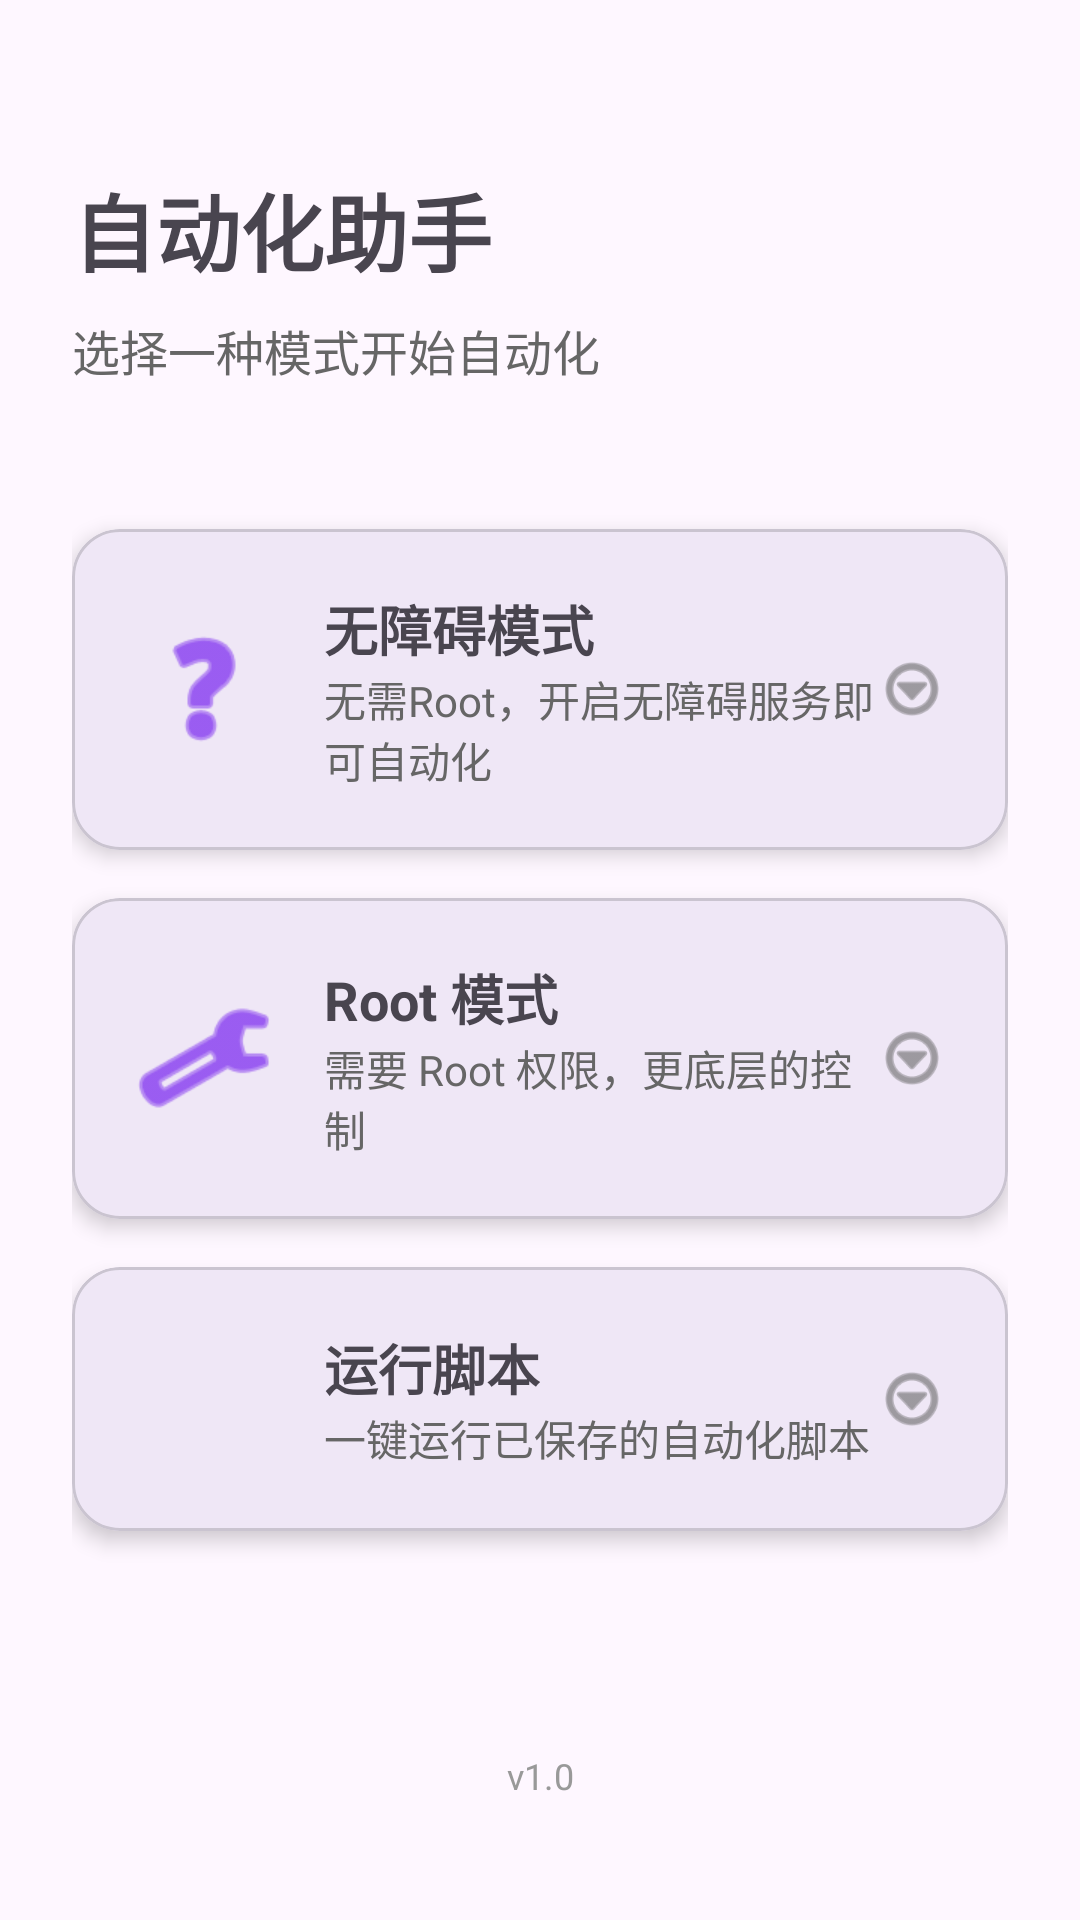

Screen size 1080 × 1920. Icon name, then its center in pixels as (x,y):
help: (204,689)
manage: (204,1058)
more: (912,689), (912,1058), (912,1399)
